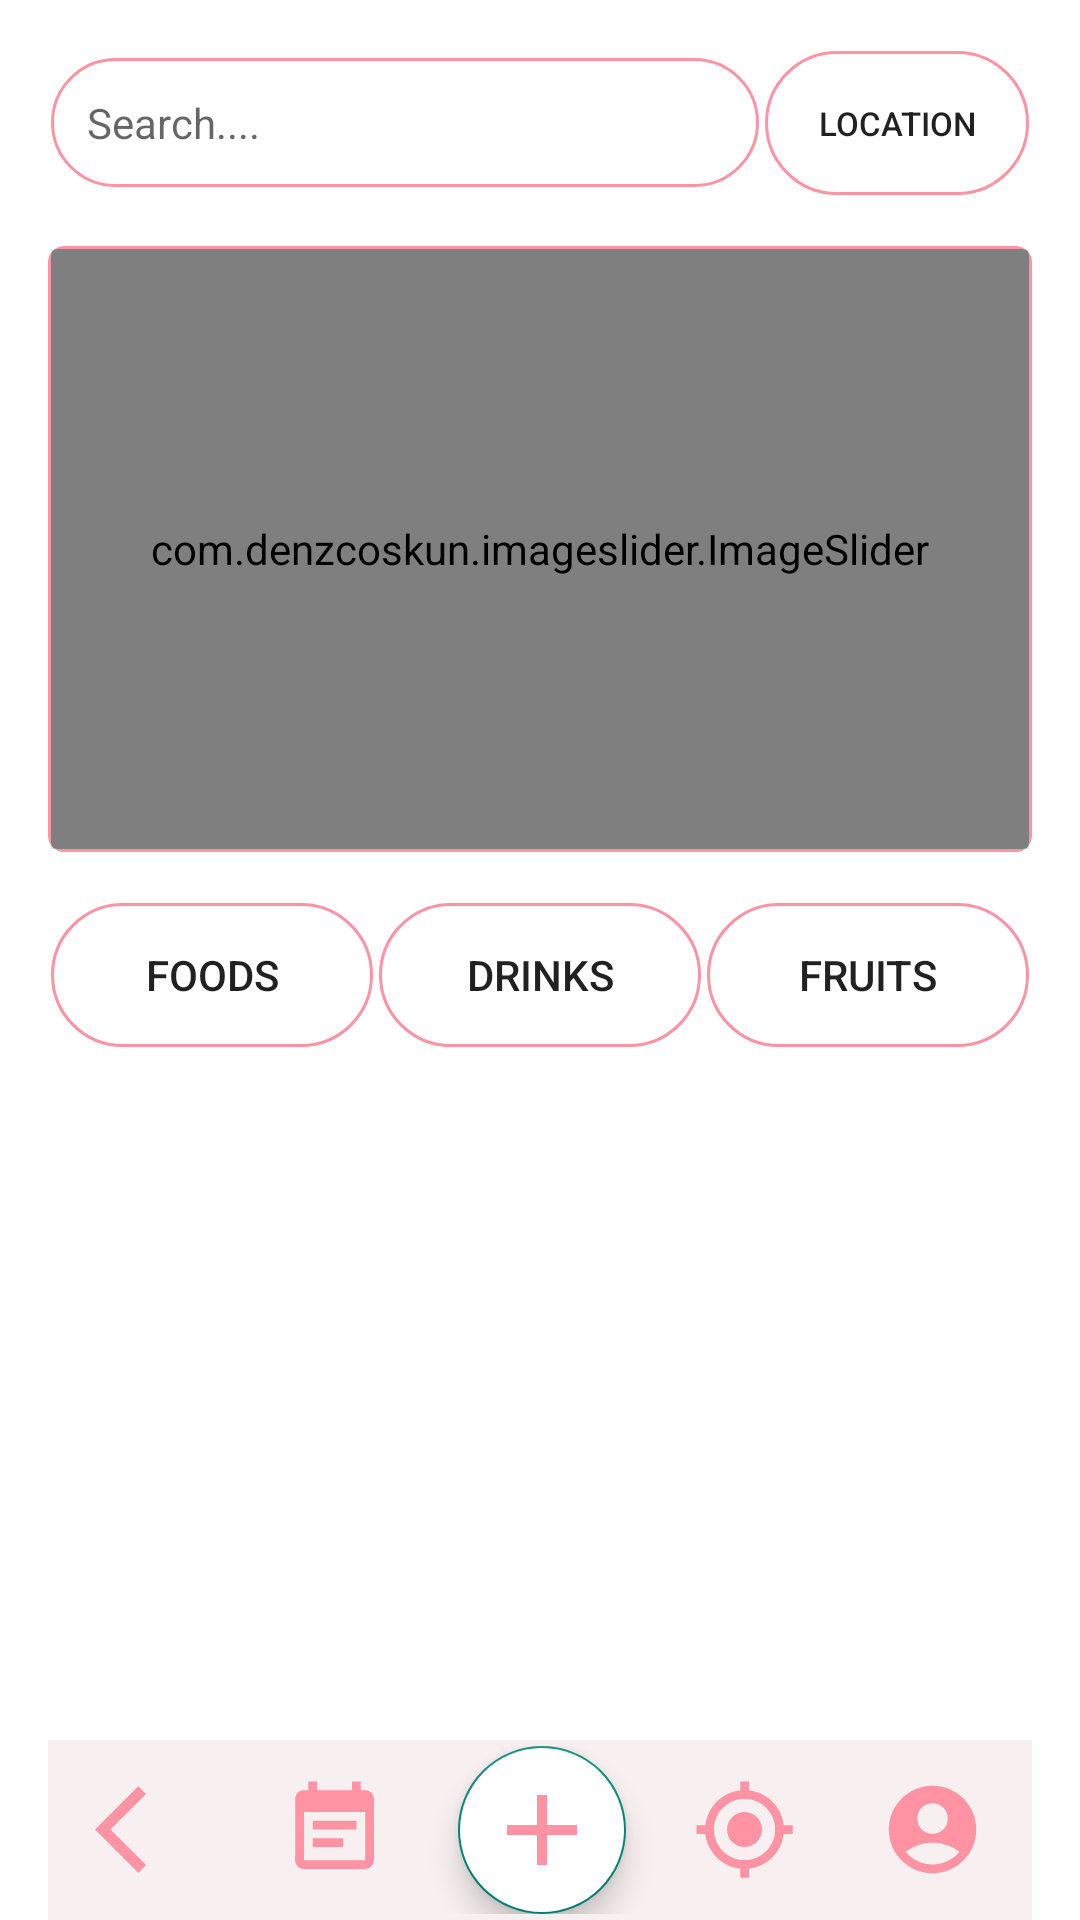

Where to tap for icons on this 1080 × 1920 app screen, as (x,y):
account circle: (932,1829)
add: (542,1830)
home location: (744,1829)
